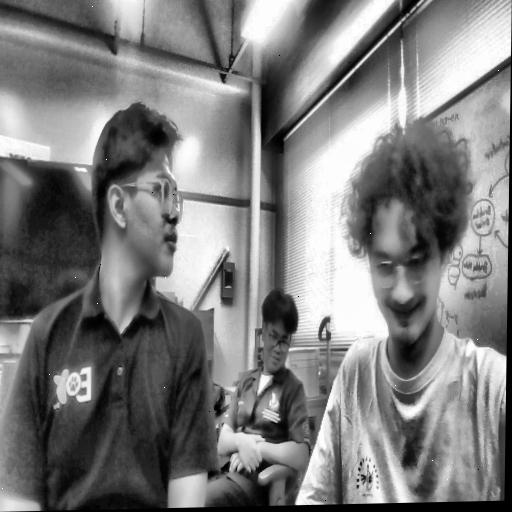Daifuku: (341, 107, 473, 352)
Not Daifuku: (256, 291, 304, 372)
